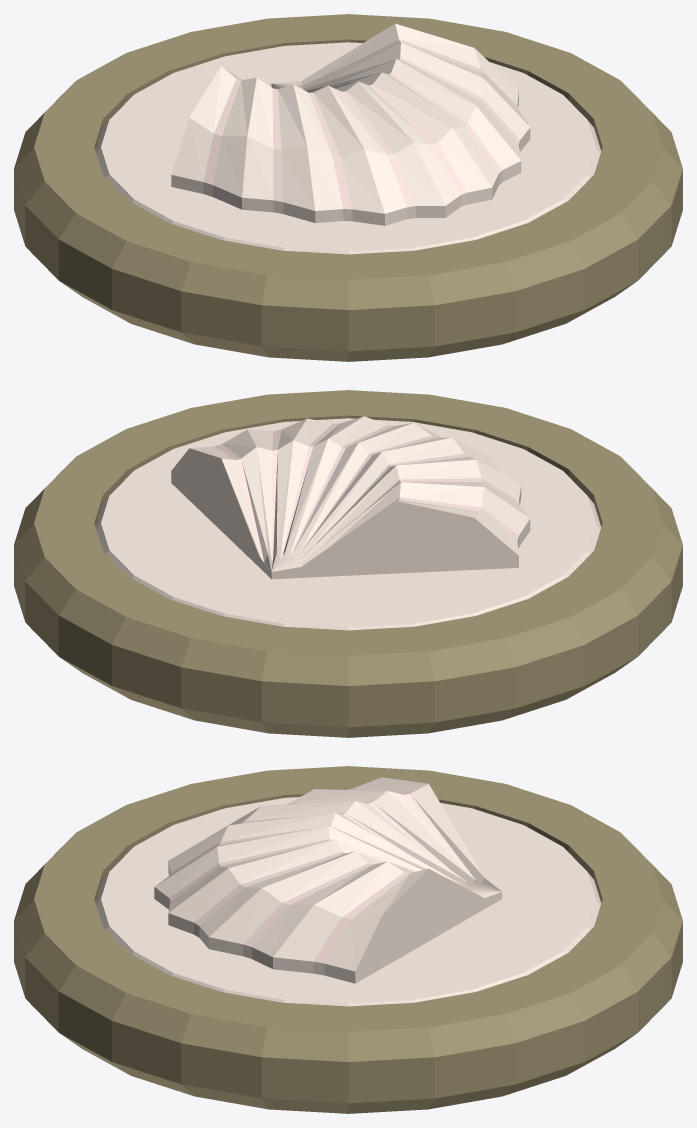
Rendered from careerButton.glb.
3 views of the same model, one above another, from view 1: azimuth 30°, elevation 25°; view 2: azimuth 150°, elevation 25°; view 3: azimuth 270°, elevation 25° (orthographic).
Visible parts, largest first — view 1: careerButton; view 2: careerButton; view 3: careerButton.
Boxes of the visible parts, box(x1,y1,x2,y2) form: careerButton: box(14, 14, 682, 361); careerButton: box(14, 390, 682, 737); careerButton: box(14, 766, 682, 1113).
Bounding box in the file's own units: 0.5 × 0.13 × 0.5.
Materials: 1 (1 with a texture image).
